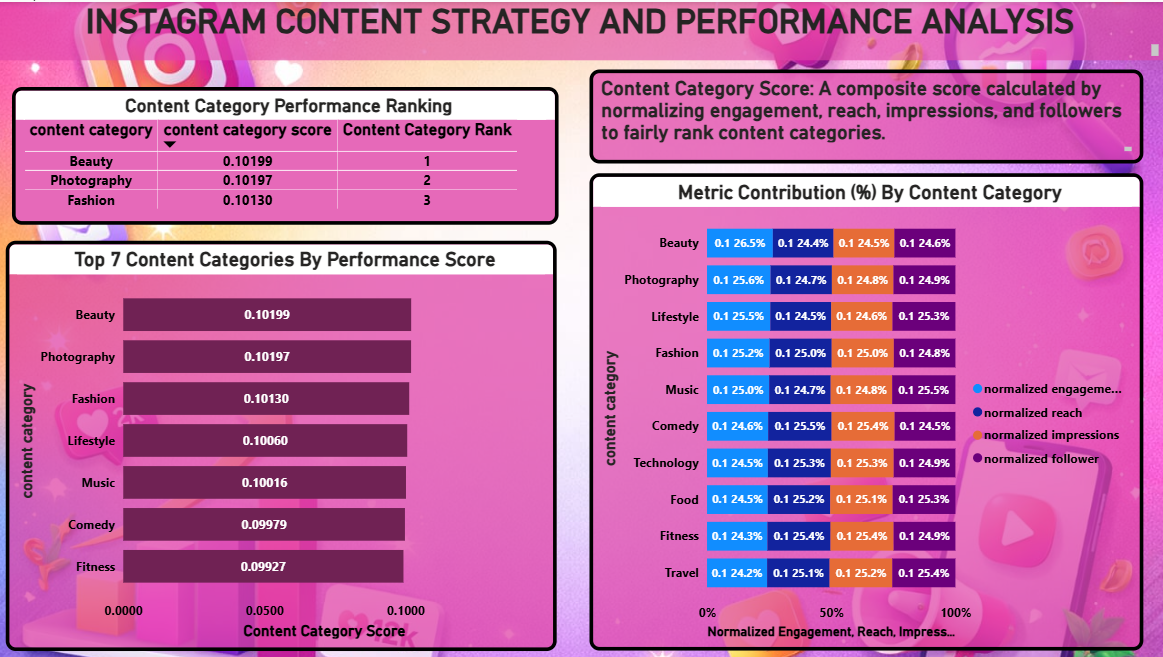

This screenshot's page, from the dashboard's own definition file:
{"tool":"powerbi","page":{"name":"Page 6","canvas":[1280,720],"ordinal":5},"visuals":[{"type":"clusteredBarChart","title":"Top 7 Content Categories By Performance Score","fields":{"Category":["Instagram_Analytics.content category"],"Y":["DAX.weight content category score"]},"box":[9.6,262.1,605.1,450.1],"z":0},{"type":"hundredPercentStackedBarChart","title":"Metric Contribution (%) By Content Category","fields":{"Category":["Instagram_Analytics.content category"],"Y":["normalization.normalized engagement","normalization.normalized reach","normalization.normalized impressions","normalization.normalized follower"]},"box":[650.4,188,607.9,524.2],"z":1000},{"type":"tableEx","title":" Content Category Performance Ranking ","fields":{"Values":["Instagram_Analytics.content category","DAX.weight content category score","normalization.Content Category Rank"]},"box":[16.5,93.3,599.7,150.9],"z":2000},{"type":"textbox","title":"INSTAGRAM CONTENT STRATEGY AND PERFORMANCE ANALYSIS","box":[0,0,1280,63.9],"z":3000},{"type":"textbox","title":"Content Category Score: A composite score calculated by normalizing engagement, reach, impressions, and followers to fairly rank content categories.","box":[650.4,74.1,607.9,102.9],"z":4000}]}

Visuals, with their boxes in screenshot pixels (x1, y1, x2, y2), scaled from the page's 1280x720 canvas onto the 1163x657 screenshot:
"Top 7 Content Categories By Performance Score" clusteredBarChart: BBox(9, 239, 559, 650)
"Metric Contribution (%) By Content Category" hundredPercentStackedBarChart: BBox(591, 172, 1143, 650)
" Content Category Performance Ranking " tableEx: BBox(15, 85, 560, 223)
"INSTAGRAM CONTENT STRATEGY AND PERFORMANCE ANALYSIS" textbox: BBox(0, 0, 1162, 58)
"Content Category Score: A composite score calculated by normalizing engagement, reach, impressions, and followers to fairly rank content categories." textbox: BBox(591, 68, 1143, 162)
